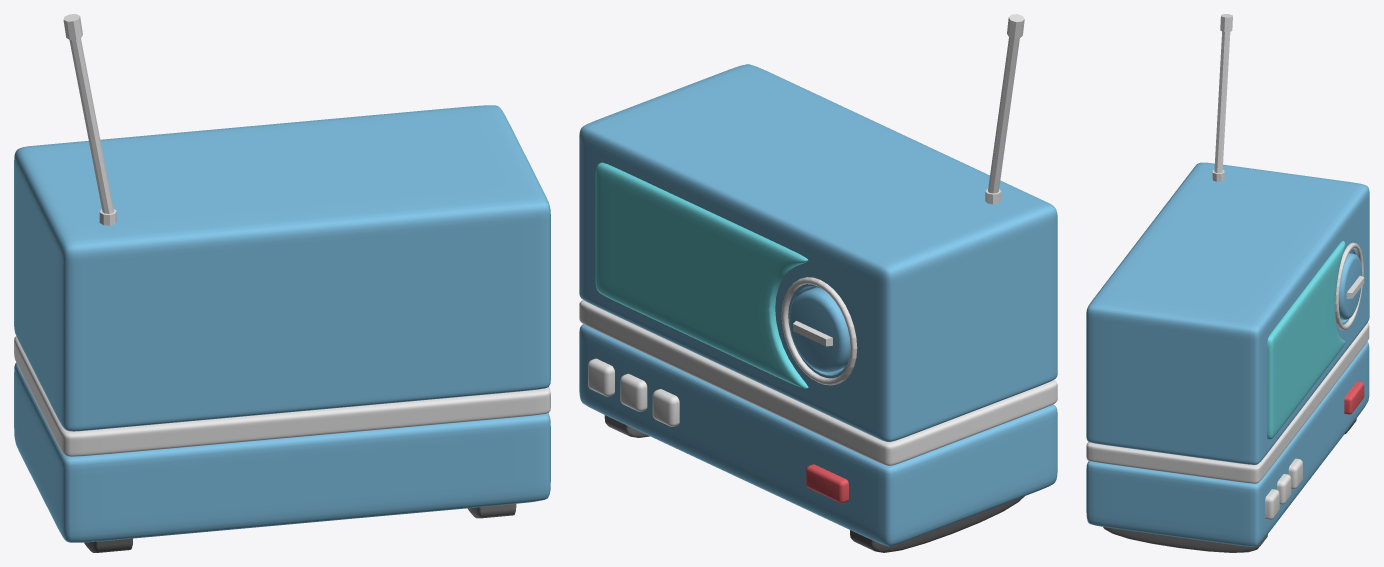
File: radio.glb
3 views of the same model, side by side, from view 1: azimuth 30°, elevation 25°; view 2: azimuth 150°, elevation 25°; view 3: azimuth 270°, elevation 25° (orthographic). The views are drawn at different scales.
Parts seen in each view (by area): view 1: Cube_2, Cube.007_11, Cube.006_10, Cylinder.001_9; view 2: Cube_2, Cube.007_11, Cube.001_3, Cube.006_10, Cylinder_8, Cylinder.001_9, Cube.010_14, Cube.008_12, Cube.005_7, Cube.003_5, Cube.004_6, Cube.002_4; view 3: Cube_2, Cube.007_11, Cube.001_3, Cube.006_10, Cylinder.001_9, Cube.009_13, Cylinder_8, Cube.010_14, Cube.005_7, Cube.002_4, Cube.003_5, Cube.004_6.
Boxes of the visible parts, <box> form: Cube_2: <box>14,105,550,431</box>; Cube.007_11: <box>14,362,550,542</box>; Cube.006_10: <box>14,336,550,456</box>; Cylinder.001_9: <box>63,14,116,225</box>; Cube_2: <box>579,64,1057,441</box>; Cube.007_11: <box>579,324,1057,546</box>; Cube.001_3: <box>595,162,808,388</box>; Cube.006_10: <box>579,300,1057,465</box>; Cylinder_8: <box>789,287,850,372</box>; Cylinder.001_9: <box>985,14,1024,204</box>; Cube.010_14: <box>781,277,857,385</box>; Cube.008_12: <box>850,496,1024,552</box>; Cube.005_7: <box>806,464,848,503</box>; Cube.003_5: <box>620,373,647,411</box>; Cube.004_6: <box>652,389,679,426</box>; Cube.002_4: <box>588,358,614,396</box>; Cube_2: <box>1086,162,1369,464</box>; Cube.007_11: <box>1086,341,1369,546</box>; Cube.001_3: <box>1267,241,1345,439</box>; Cube.006_10: <box>1086,322,1369,483</box>; Cylinder.001_9: <box>1212,14,1232,181</box>; Cube.009_13: <box>1103,527,1267,552</box>; Cylinder_8: <box>1338,253,1364,319</box>; Cube.010_14: <box>1335,242,1363,330</box>; Cube.005_7: <box>1344,381,1364,414</box>; Cube.002_4: <box>1265,489,1279,519</box>; Cube.003_5: <box>1277,474,1291,504</box>; Cube.004_6: <box>1288,458,1302,489</box>.
Size of the model in its own units: 0.5239 by 0.5671 by 0.3697.
